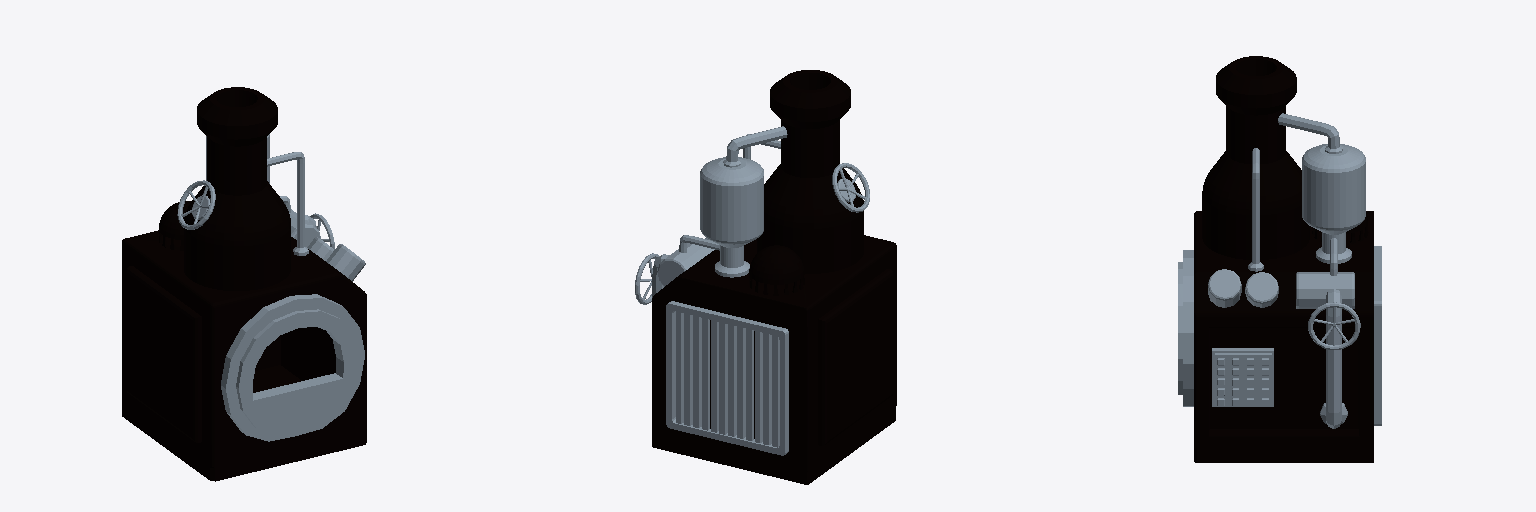
File: MetalRecycler.obj
The picture shows the model from 3 angles: view 1: azimuth 30°, elevation 25°; view 2: azimuth 150°, elevation 25°; view 3: azimuth 270°, elevation 25°; orthographic projection.
Visible parts, largest first — view 1: Cube, Cylinder, Cylinder.010, Cylinder.009, Cylinder.006, Sphere; view 2: Cube, Cylinder, Cube.003, Cylinder.001, Plane, Sphere, Cylinder.002, Cylinder.004, Cylinder.006; view 3: Cube, Cylinder, Cylinder.001, Cube.001, Cylinder.007, Cylinder.010, Cylinder.002, Plane, Cube.002, Cylinder.009, Cylinder.005, Cylinder.004.
Part boxes in pixels (left/top/right/bottom): Cube: left=122, top=230, right=366, bottom=481; Cylinder: left=184, top=87, right=290, bottom=290; Cylinder.010: left=307, top=237, right=365, bottom=281; Cylinder.009: left=267, top=152, right=308, bottom=255; Cylinder.006: left=177, top=180, right=215, bottom=229; Sphere: left=159, top=201, right=190, bottom=240; Cube: left=652, top=235, right=896, bottom=484; Cylinder: left=757, top=70, right=863, bottom=273; Cube.003: left=676, top=312, right=779, bottom=447; Cylinder.001: left=700, top=157, right=763, bottom=277; Plane: left=666, top=301, right=788, bottom=455; Sphere: left=749, top=245, right=804, bottom=284; Cylinder.002: left=657, top=243, right=714, bottom=286; Cylinder.004: left=723, top=126, right=787, bottom=167; Cylinder.006: left=832, top=163, right=869, bottom=212; Cube: left=1178, top=211, right=1373, bottom=462; Cylinder: left=1202, top=56, right=1309, bottom=259; Cylinder.001: left=1302, top=144, right=1365, bottom=263; Cube.001: left=1212, top=348, right=1273, bottom=406; Cylinder.007: left=1320, top=289, right=1347, bottom=428; Cylinder.010: left=1208, top=269, right=1278, bottom=307; Cylinder.002: left=1296, top=272, right=1354, bottom=308; Plane: left=1374, top=246, right=1381, bottom=425; Cube.002: left=1217, top=358, right=1268, bottom=405; Cylinder.009: left=1248, top=148, right=1263, bottom=271; Cylinder.005: left=1308, top=302, right=1360, bottom=349; Cylinder.004: left=1278, top=113, right=1342, bottom=153.
Bounding box in the file's own units: 7.2 × 12.71 × 6.76.